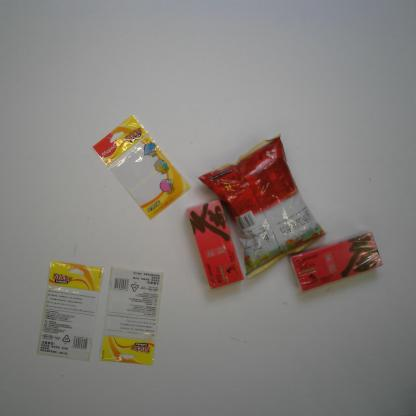Instant Drink: (289, 231, 383, 293), (188, 198, 245, 290)
Puffed Food: (196, 134, 326, 279)
Stationery: (91, 114, 192, 221), (36, 260, 103, 363), (99, 266, 164, 367)
